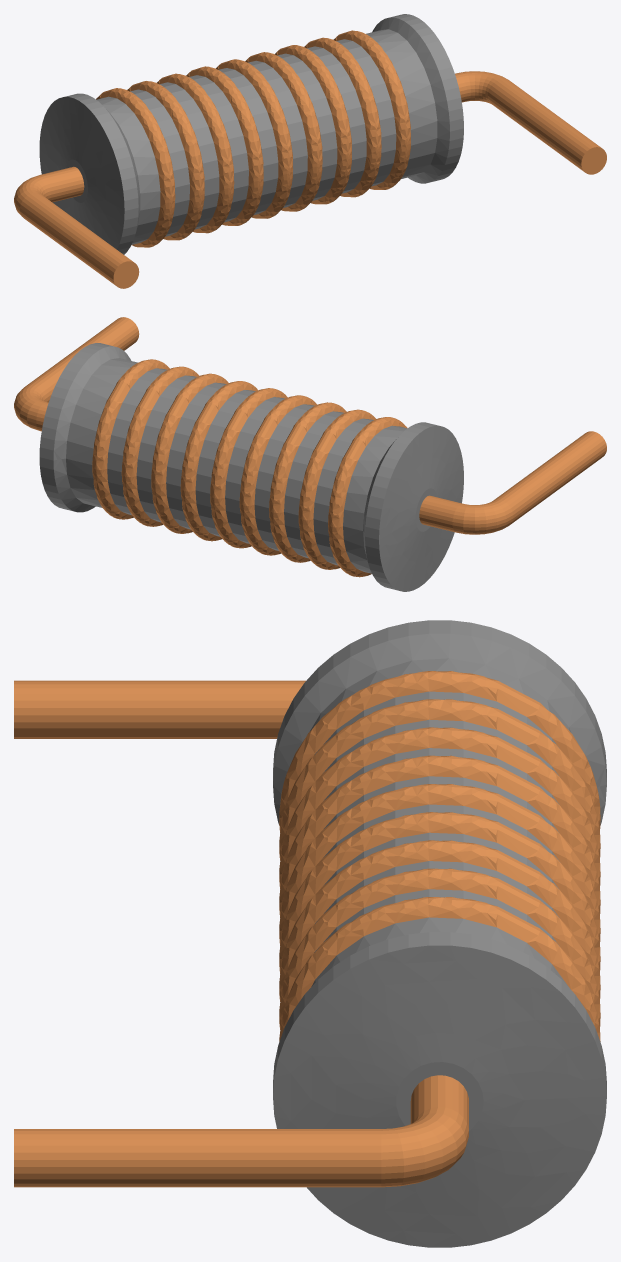
File: L_Axial_L9.5mm_D4.0mm_P12.70mm_Horizontal_Fastron_SMCC.glb
3 views of the same model, one above another, from view 1: azimuth 30°, elevation 25°; view 2: azimuth 150°, elevation 25°; view 3: azimuth 270°, elevation 25° (orthographic). The views are drawn at different scales.
Parts seen in each view (by area): view 1: Shape_IndexedFaceSet.029, Shape_IndexedFaceSet.005, Shape_IndexedFaceSet.033, Shape_IndexedFaceSet.008, Shape_IndexedFaceSet.026, Shape_IndexedFaceSet.011, Shape_IndexedFaceSet.025, Shape_IndexedFaceSet.015, Shape_IndexedFaceSet.023, Shape_IndexedFaceSet.019, Shape_IndexedFaceSet.013, Shape_IndexedFaceSet.017 (+18 smaller); view 2: Shape_IndexedFaceSet.029, Shape_IndexedFaceSet.005, Shape_IndexedFaceSet.033, Shape_IndexedFaceSet.026, Shape_IndexedFaceSet.007, Shape_IndexedFaceSet.021, Shape_IndexedFaceSet.025, Shape_IndexedFaceSet.013, Shape_IndexedFaceSet.019, Shape_IndexedFaceSet.017, Shape_IndexedFaceSet.011, Shape_IndexedFaceSet.015 (+16 smaller); view 3: Shape_IndexedFaceSet, Shape_IndexedFaceSet.008, Shape_IndexedFaceSet.033, Shape_IndexedFaceSet.027, Shape_IndexedFaceSet.013, Shape_IndexedFaceSet.019, Shape_IndexedFaceSet.021, Shape_IndexedFaceSet.011, Shape_IndexedFaceSet.023, Shape_IndexedFaceSet.015, Shape_IndexedFaceSet.017, Shape_IndexedFaceSet.025 (+16 smaller).
Part boxes in pixels (x1,y1,x2,y2): Shape_IndexedFaceSet.029: [39, 97, 124, 249]; Shape_IndexedFaceSet.005: [366, 29, 437, 178]; Shape_IndexedFaceSet.033: [20, 192, 132, 285]; Shape_IndexedFaceSet.008: [487, 78, 601, 171]; Shape_IndexedFaceSet.026: [96, 96, 160, 244]; Shape_IndexedFaceSet.011: [304, 37, 381, 197]; Shape_IndexedFaceSet.025: [96, 88, 175, 247]; Shape_IndexedFaceSet.015: [245, 52, 322, 211]; Shape_IndexedFaceSet.023: [127, 81, 204, 240]; Shape_IndexedFaceSet.019: [186, 66, 263, 225]; Shape_IndexedFaceSet.013: [275, 45, 351, 204]; Shape_IndexedFaceSet.017: [216, 59, 293, 218]; Shape_IndexedFaceSet.029: [379, 426, 463, 591]; Shape_IndexedFaceSet.005: [66, 358, 137, 507]; Shape_IndexedFaceSet.033: [493, 431, 606, 525]; Shape_IndexedFaceSet.026: [343, 425, 407, 573]; Shape_IndexedFaceSet.007: [92, 359, 169, 519]; Shape_IndexedFaceSet.021: [269, 402, 346, 562]; Shape_IndexedFaceSet.025: [328, 417, 407, 577]; Shape_IndexedFaceSet.013: [151, 373, 228, 533]; Shape_IndexedFaceSet.019: [239, 395, 317, 555]; Shape_IndexedFaceSet.017: [210, 388, 287, 548]; Shape_IndexedFaceSet.011: [121, 366, 199, 526]; Shape_IndexedFaceSet.015: [180, 381, 258, 541]; Shape_IndexedFaceSet: [273, 945, 606, 1247]; Shape_IndexedFaceSet.008: [14, 1129, 381, 1187]; Shape_IndexedFaceSet.033: [14, 680, 305, 738]; Shape_IndexedFaceSet.027: [273, 633, 606, 825]; Shape_IndexedFaceSet.013: [279, 840, 600, 1001]; Shape_IndexedFaceSet.019: [279, 755, 600, 917]; Shape_IndexedFaceSet.021: [279, 727, 600, 889]; Shape_IndexedFaceSet.011: [279, 868, 600, 1029]; Shape_IndexedFaceSet.023: [279, 699, 600, 860]; Shape_IndexedFaceSet.015: [279, 812, 600, 973]; Shape_IndexedFaceSet.017: [279, 784, 600, 945]; Shape_IndexedFaceSet.025: [279, 671, 600, 832].
Bounding box in the file's own units: 5.27 × 1.57 × 2.8.
